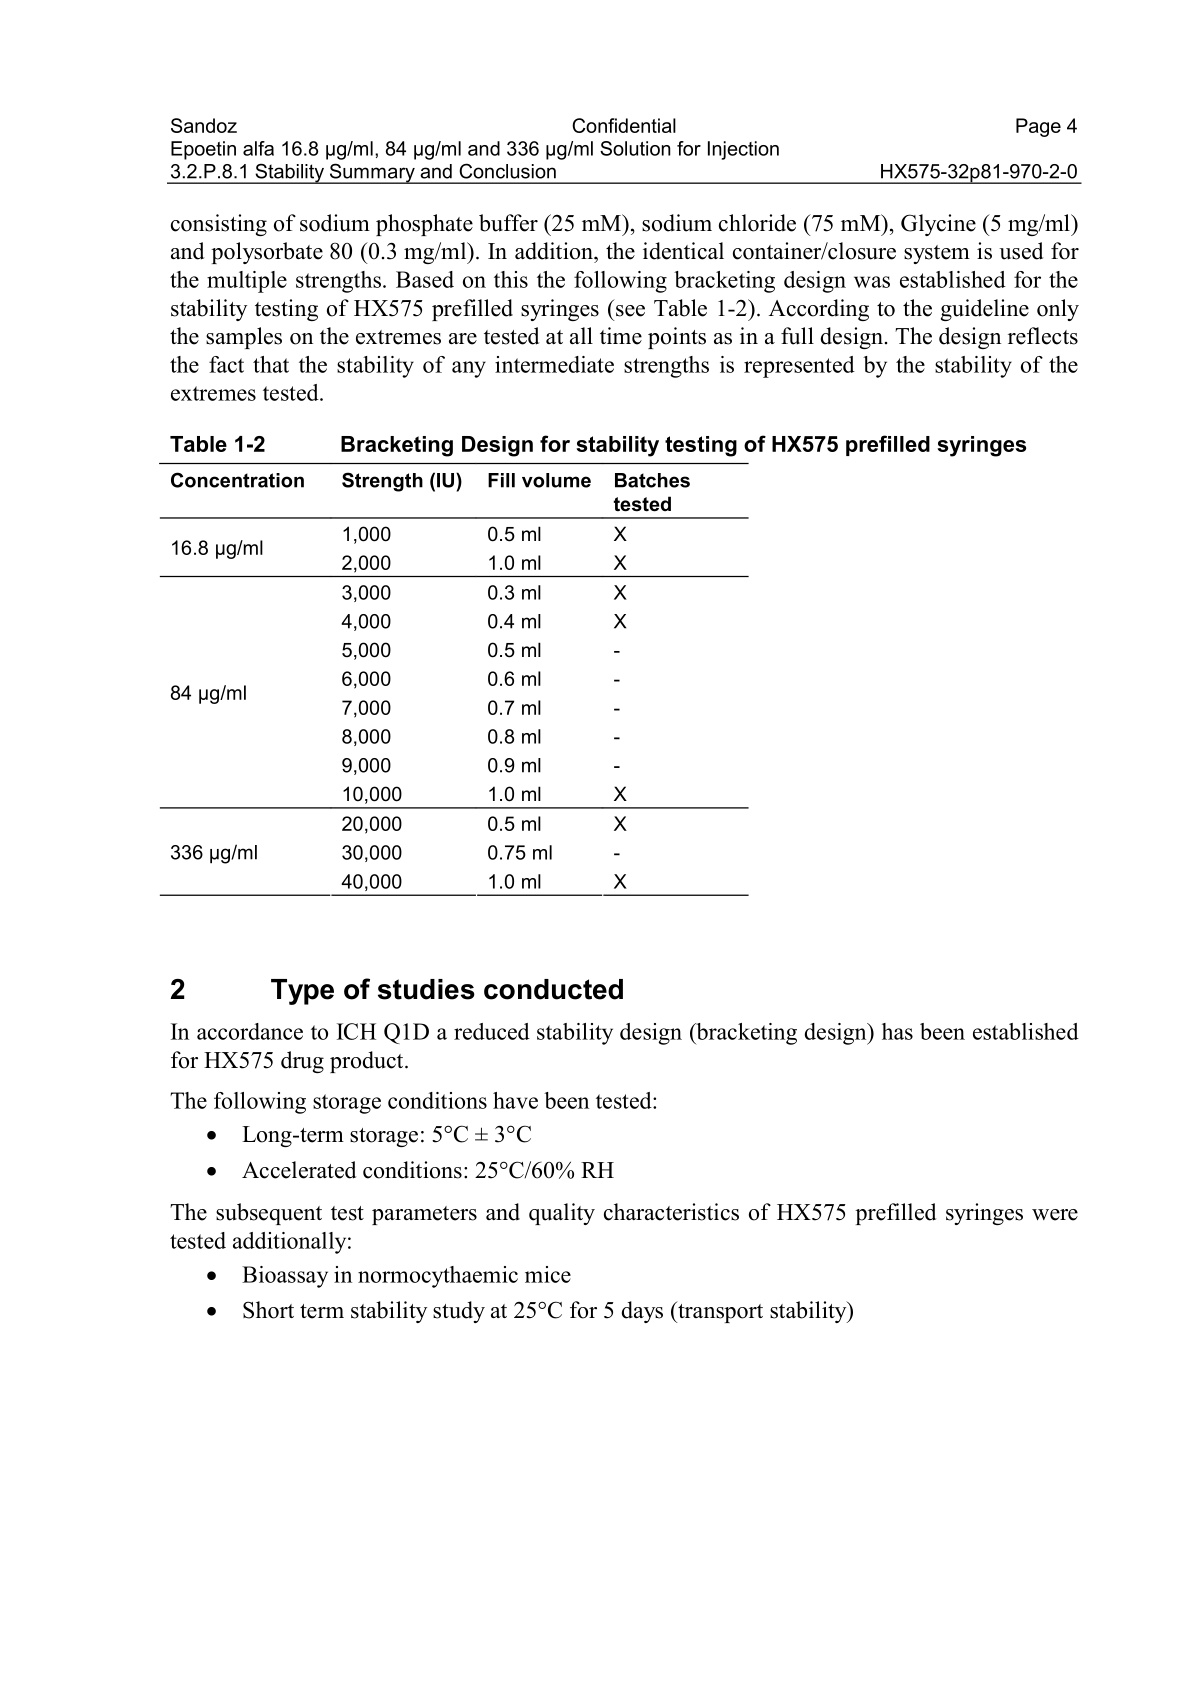partial_lined: (159, 463, 749, 895)
